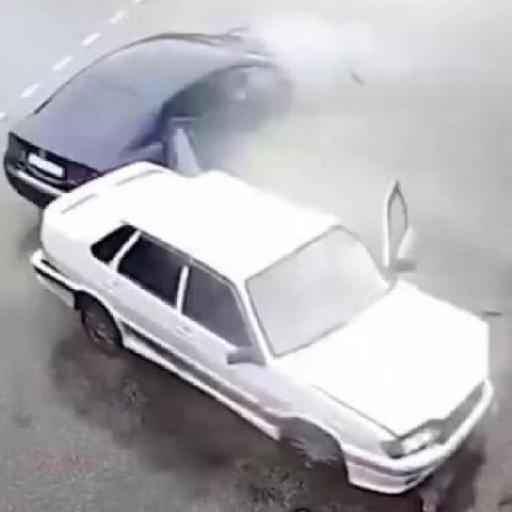小汽车撞小汽车: (7, 34, 500, 496)
